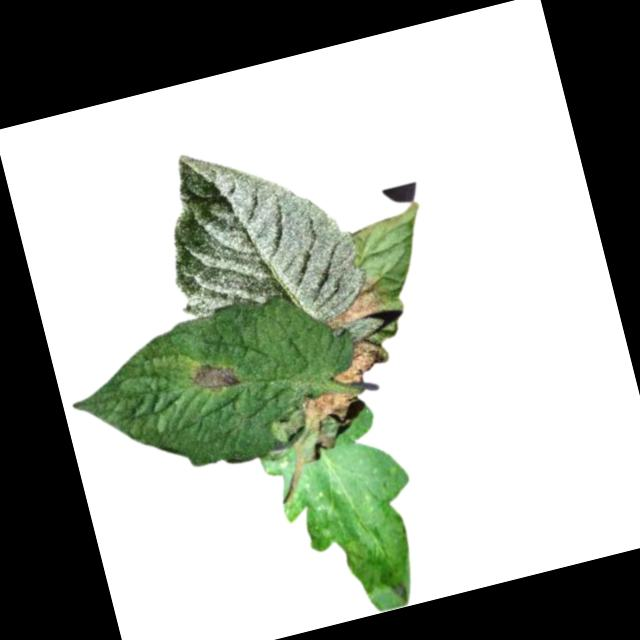Late_blight: (334, 515, 425, 619), (295, 383, 368, 453), (312, 271, 387, 330), (325, 332, 395, 392), (182, 354, 241, 400)
healthy: (144, 117, 372, 352)
